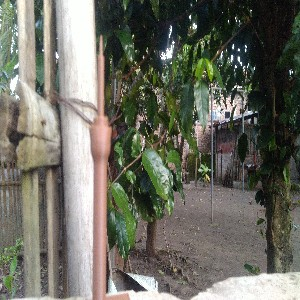solder: (89, 33, 112, 300)
